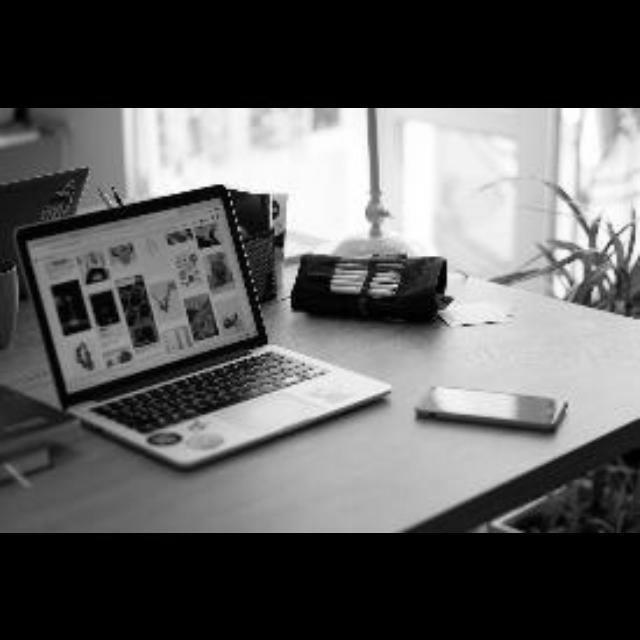fake: (399, 374, 584, 457)
